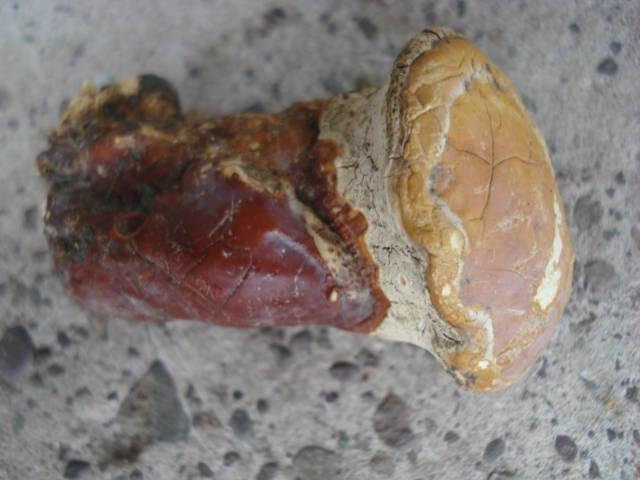Non-edible Mushroom: (35, 25, 576, 394)
